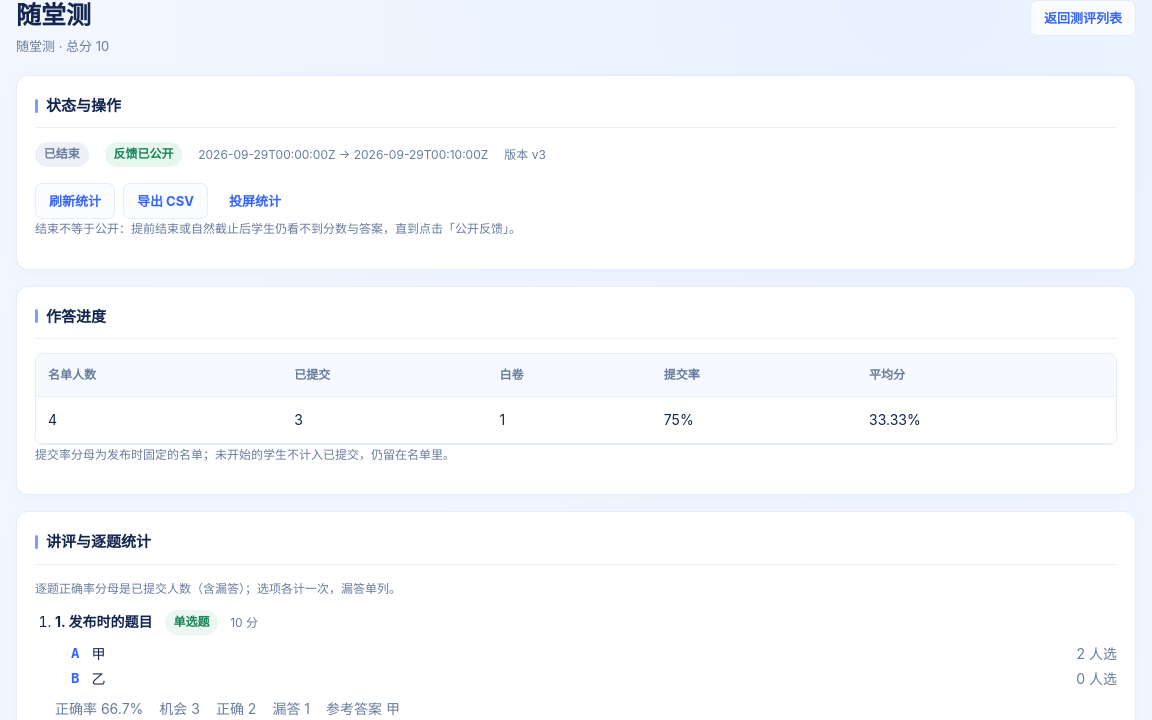
Test: 测评讲评和投屏 › 讲评显示冻结答案，投屏只显示匿名聚合面板
What coordinates should you click on to do the following:
click the button "投屏统计"
I would click on:
 (255, 201)
Its box is [216, 183, 294, 219].
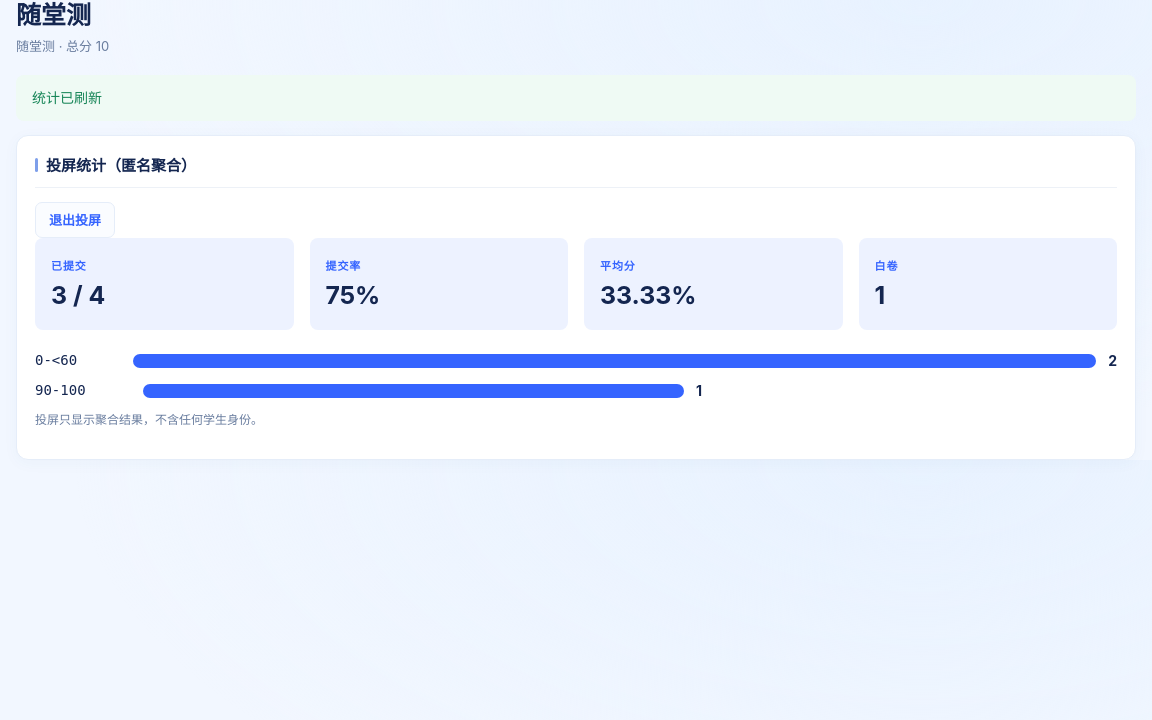
Result: the text "发布时的题目" is gone
Result: the text "参考答案" is gone
Result: the text "退出投屏" is shown at [35, 202, 115, 238]
